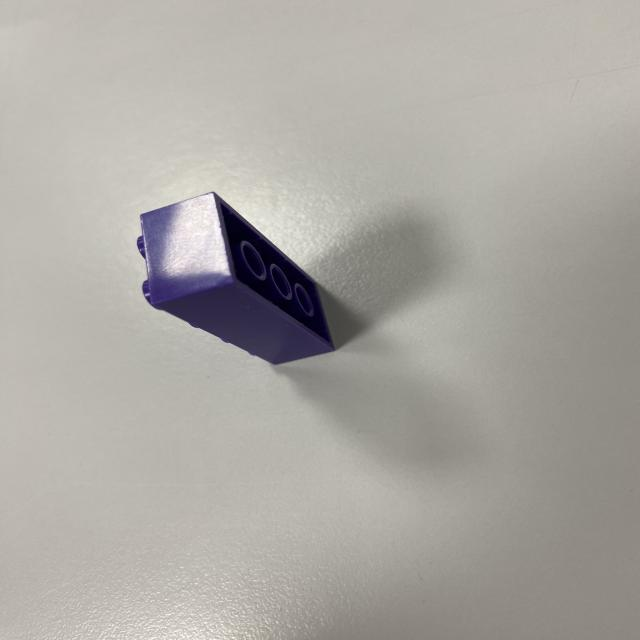C4x2x1: (138, 192, 334, 344)
